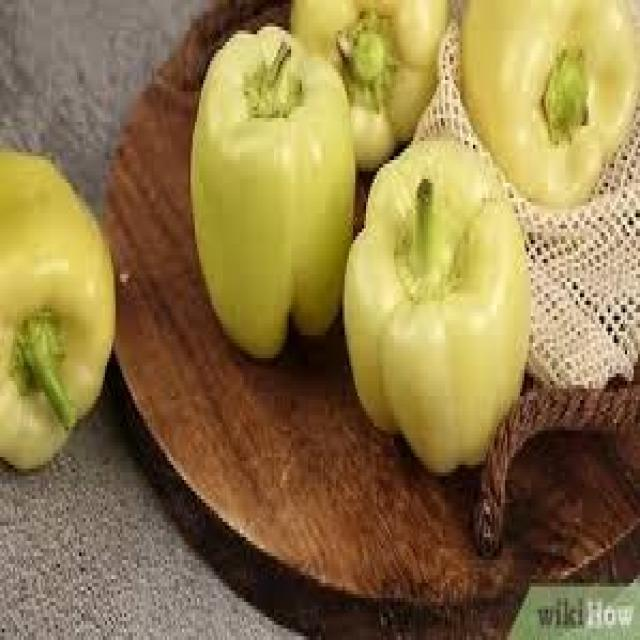Pepper: (344, 138, 531, 474), (190, 24, 354, 370), (458, 0, 640, 203), (0, 152, 116, 465), (289, 0, 445, 168)
